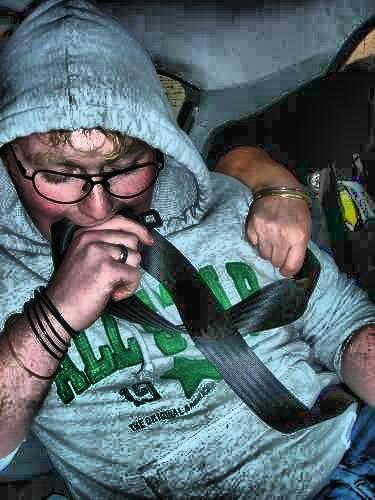seatbelt: (39, 208, 333, 432)
